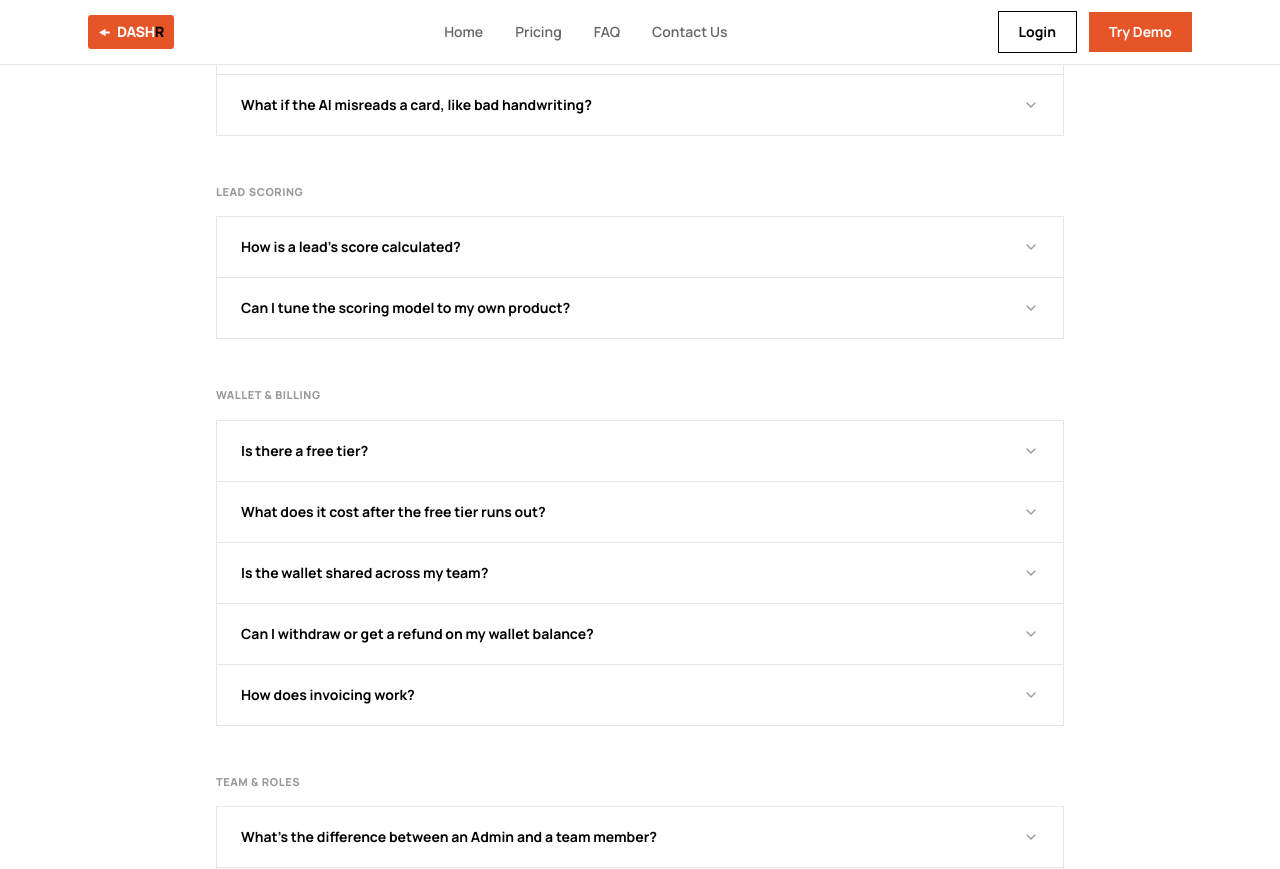
Test: /faq page › expands an answer on click and collapses it on a second click
(page scrolled)
Expected: the text "first 20 parses, 20 enrichments, and 20 scorings free" is not shown
Click the button "Is there a free tier?": (305, 450) [217,420,1063,480]
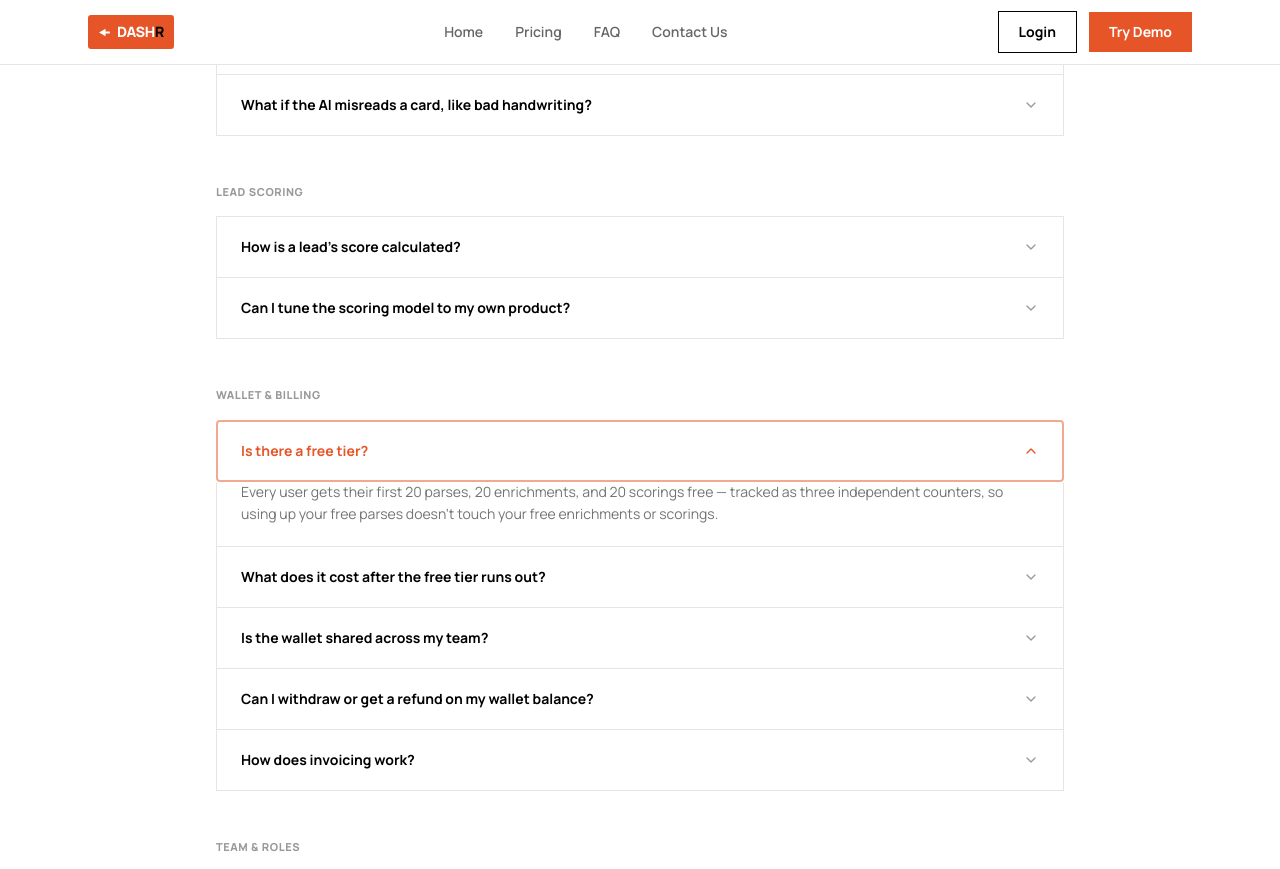
Now the text "first 20 parses, 20 enrichments, and 20 scorings free" is shown, box [241,482,1003,523]
Click the button "Is there a free tier?": (305, 450) [217,420,1063,480]
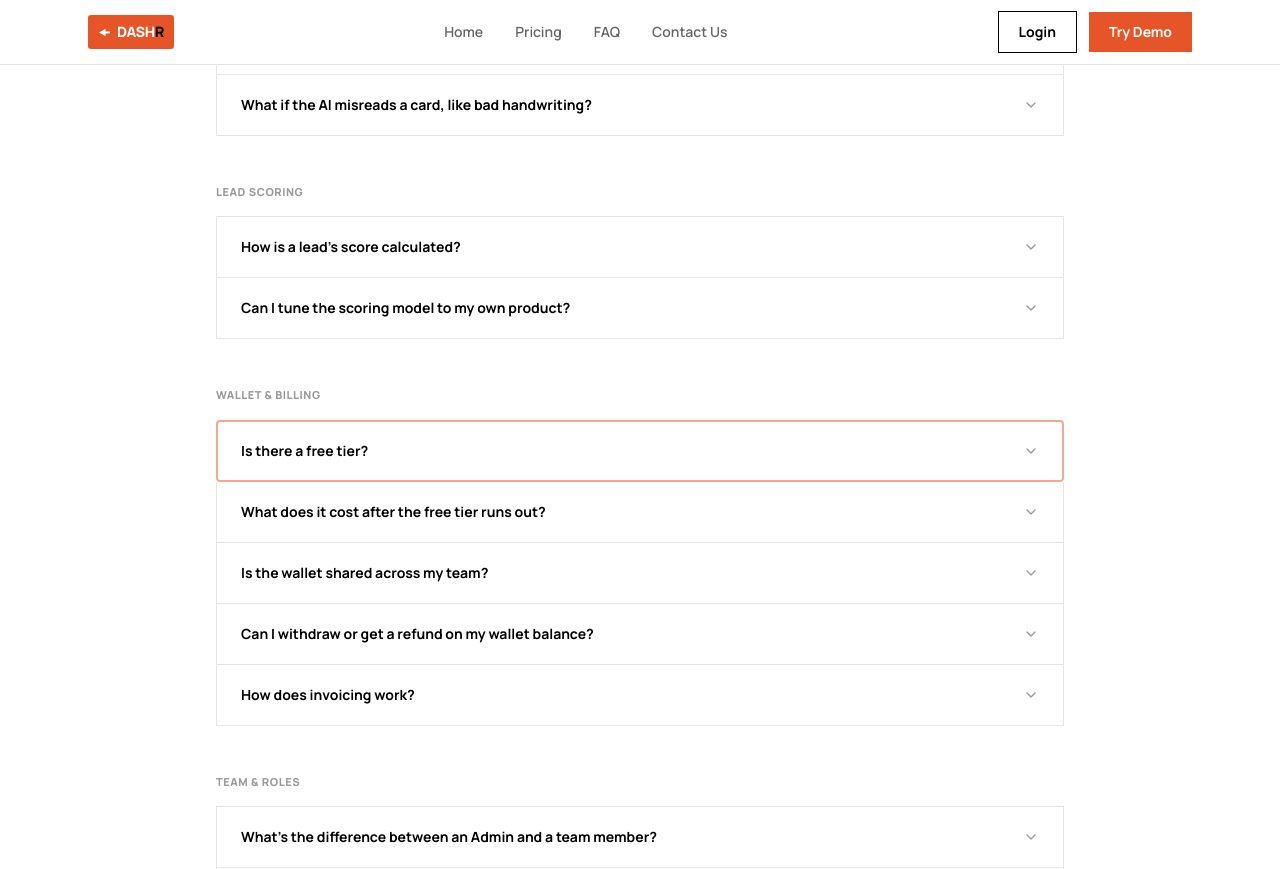
Now the text "first 20 parses, 20 enrichments, and 20 scorings free" is gone
